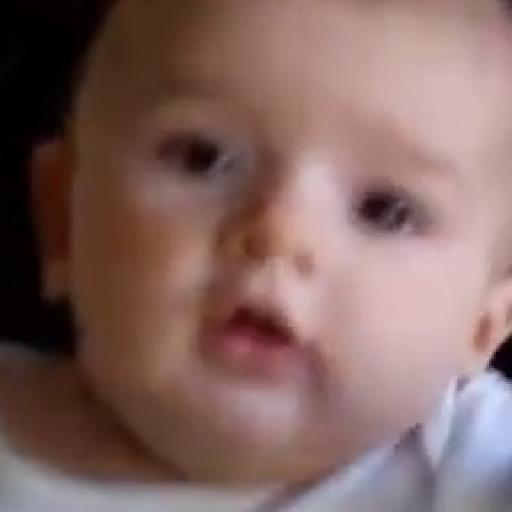Autism: (42, 7, 512, 473)
